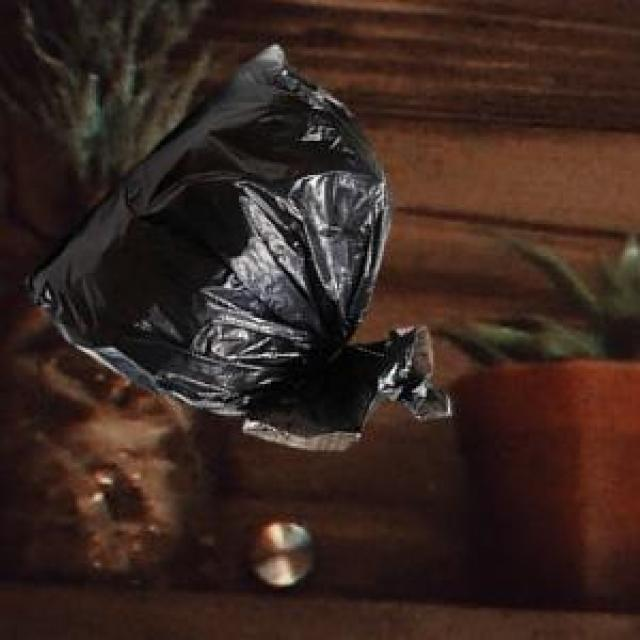waste: (30, 45, 450, 451)
